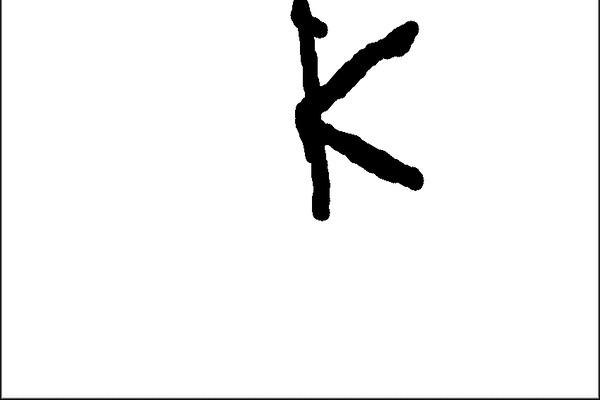K: (284, 0, 433, 225)
